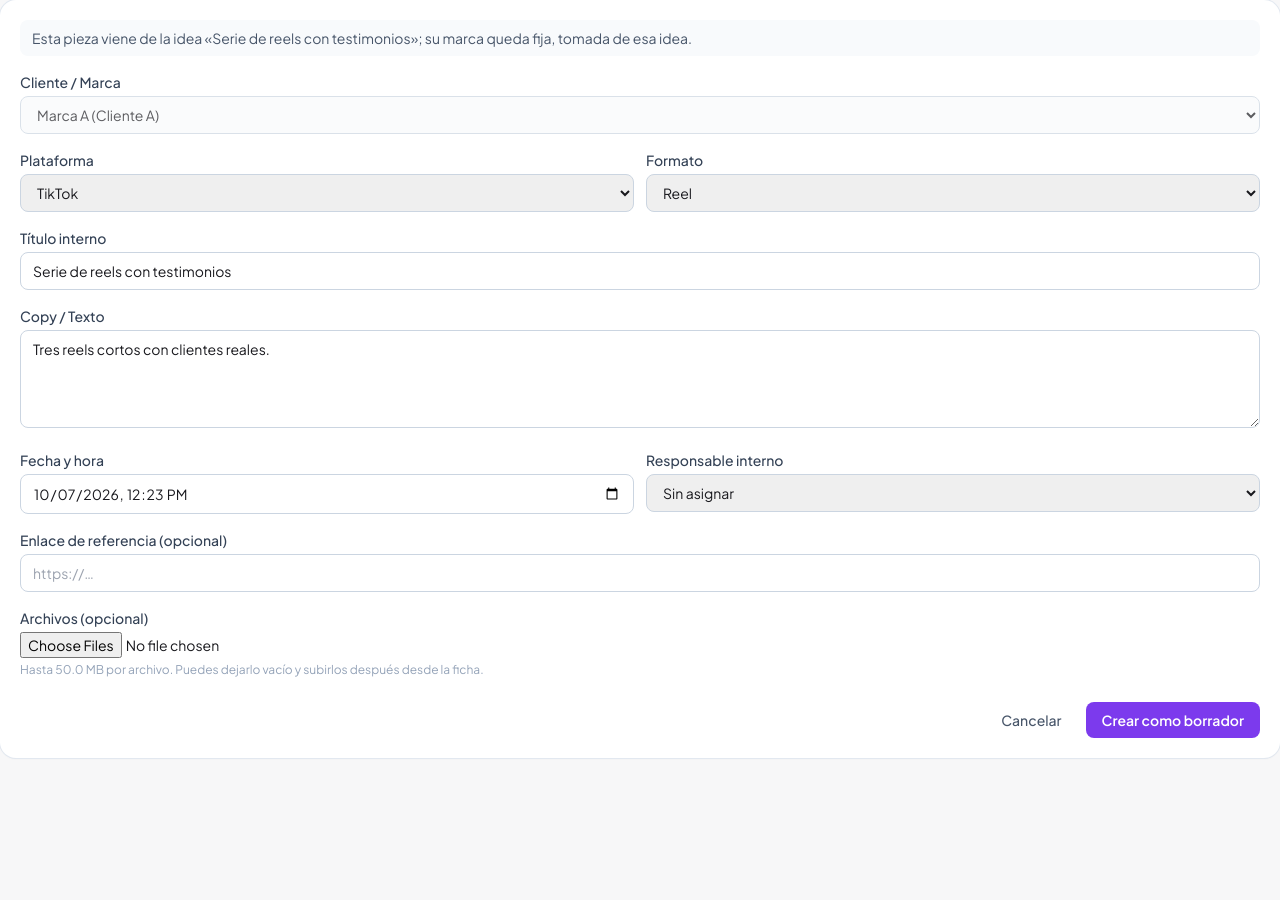
Scenario: ContentPieceForm — reintento del vínculo idea→pieza tras un fallo › si el reintento vuelve a fallar, muestra el error nuevo y mantiene el escape hatch "Ir a la pieza"
Click the button "Crear como borrador". click: (1173, 720)
box: [1086,702,1260,738]
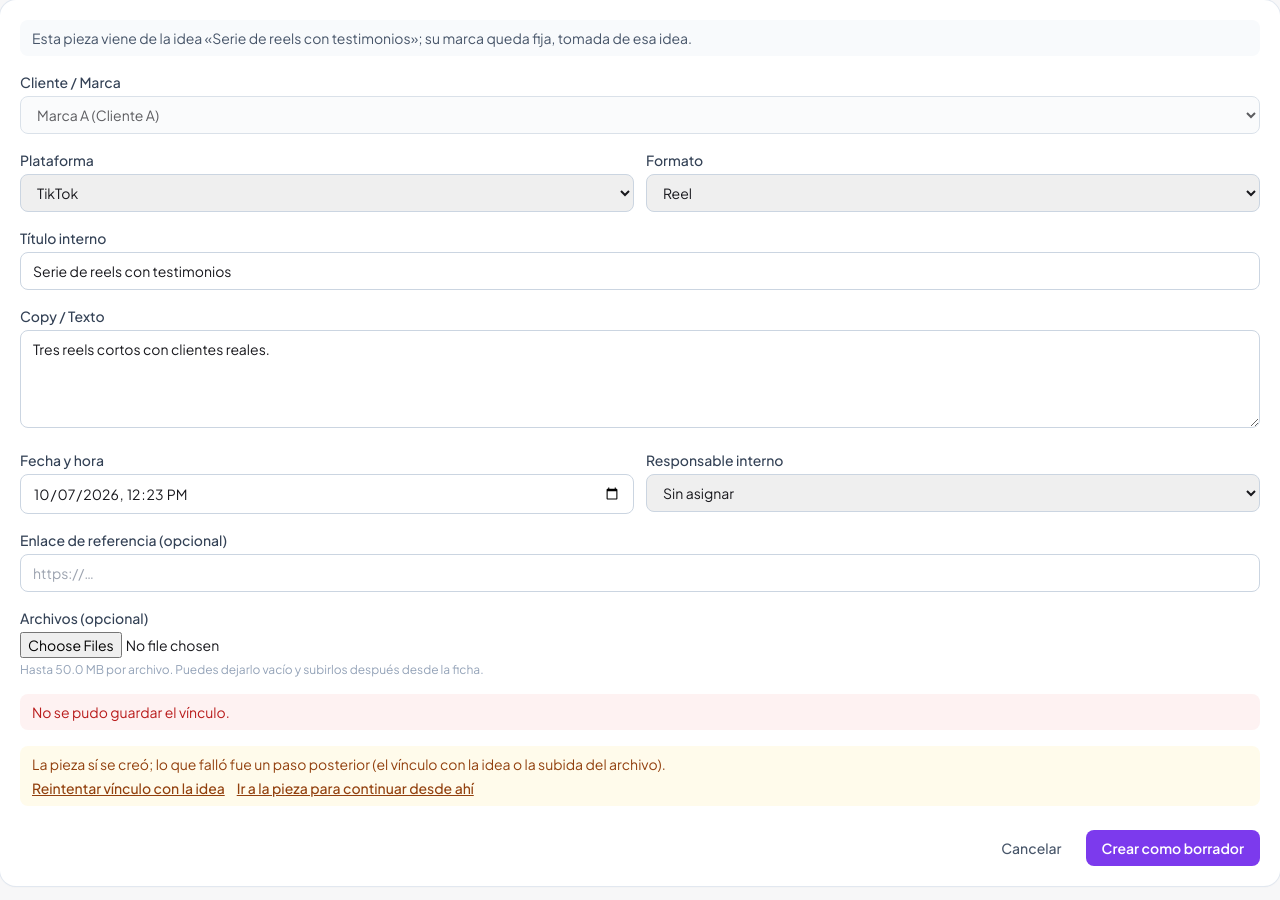
Expected: the text "No se pudo guardar el vínculo." is shown, [20,694,1260,730]
Click the button "Reintentar vínculo con la idea". click: (128, 788)
box: [32,778,225,798]
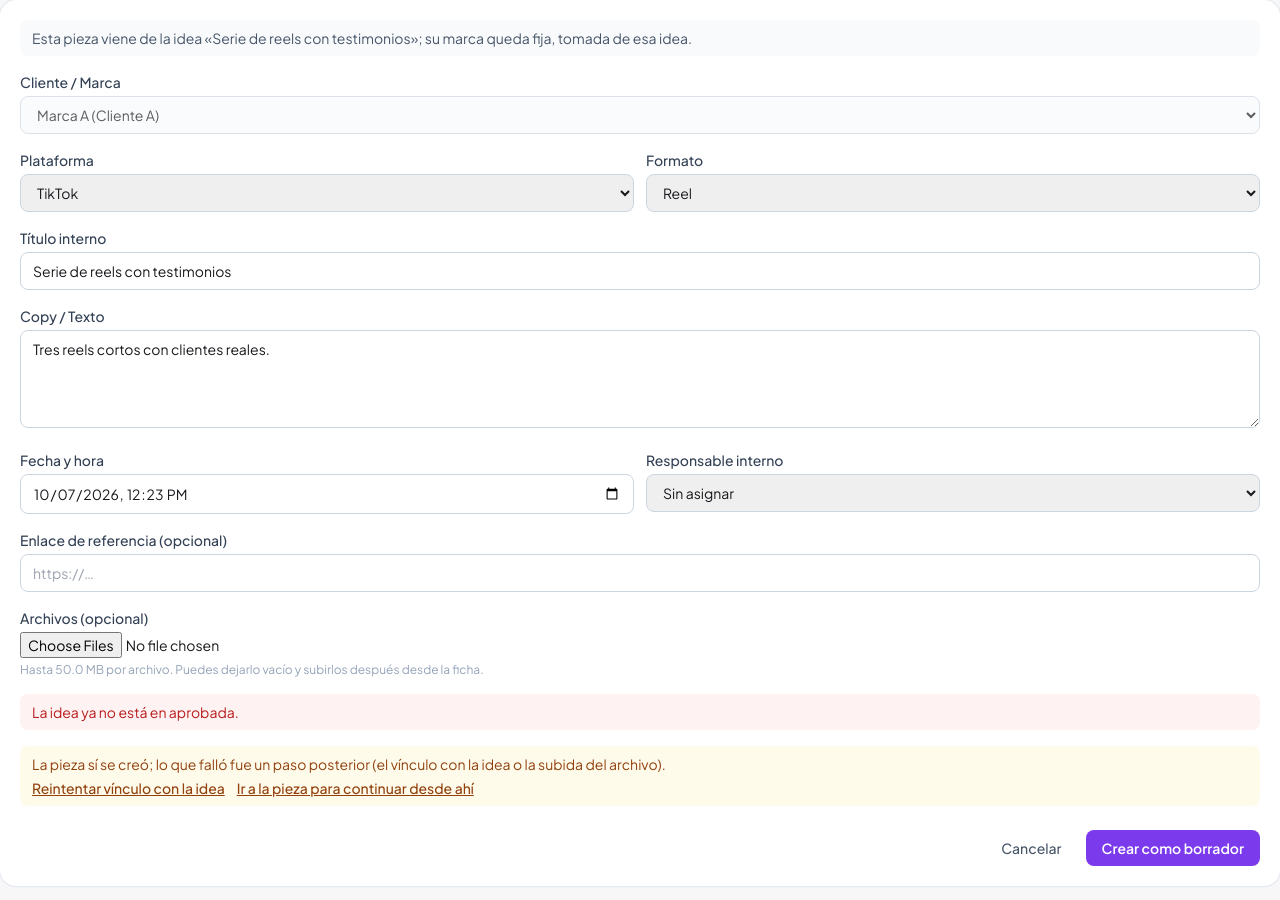
Expected: the button "Ir a la pieza para continuar desde ahí" is shown, [237,778,474,798]
Expected: the text "La idea ya no está en aprobada." is shown, [20,694,1260,730]
